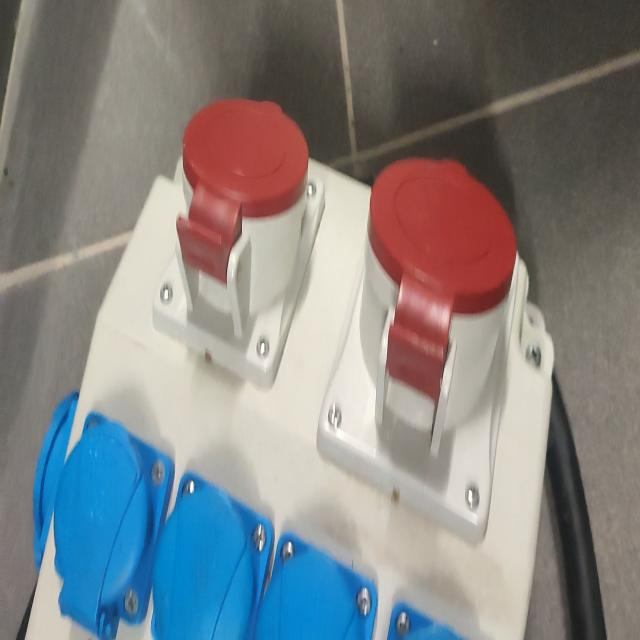400v socket: (318, 157, 518, 546), (151, 95, 327, 385)
house plug covered: (54, 406, 173, 640), (150, 470, 272, 640), (254, 532, 380, 640)
